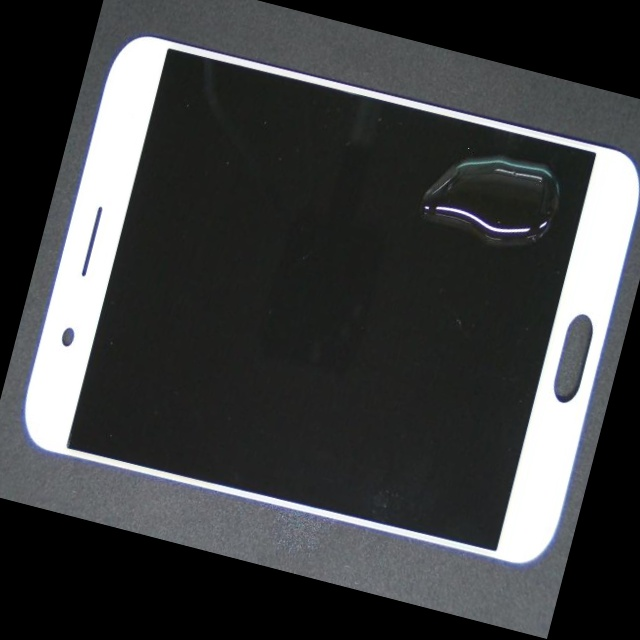oil: (279, 45, 640, 272)
